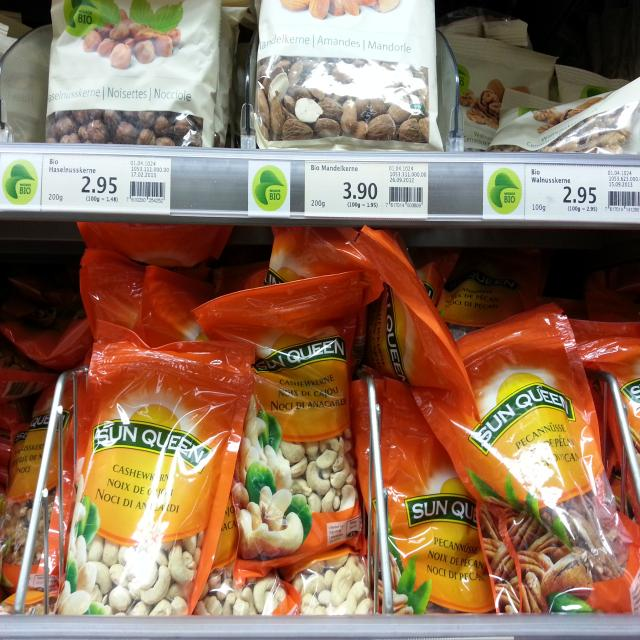DriedFruitsAndNuts: (410, 304, 640, 616), (55, 336, 250, 617), (194, 269, 367, 577), (252, 1, 437, 147), (45, 0, 218, 146), (486, 75, 640, 158)
